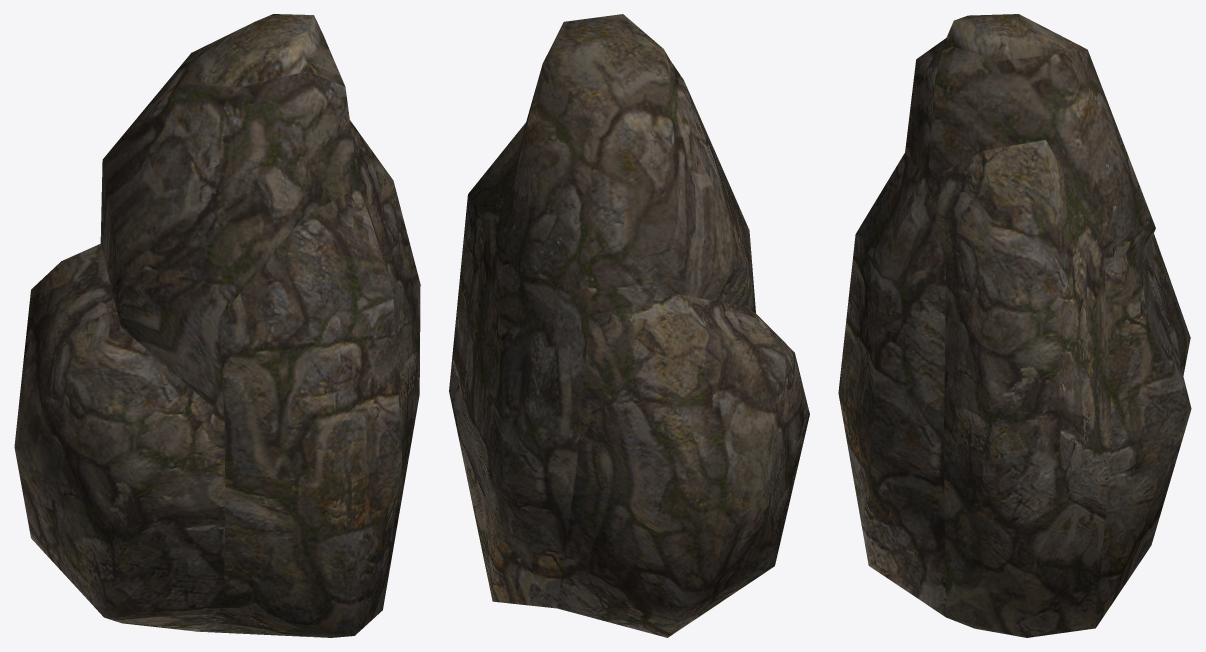
File: Rock06.FBX
The picture shows the model from 3 angles, left to right: view 1: azimuth 30°, elevation 25°; view 2: azimuth 150°, elevation 25°; view 3: azimuth 270°, elevation 25°; orthographic projection. The views are drawn at different scales.
Visible parts, largest first — view 1: Rock06; view 2: Rock06; view 3: Rock06.
Part boxes in pixels (x1,y1,x2,y2): Rock06: (14,14,420,637); Rock06: (449,14,809,637); Rock06: (838,14,1191,637).
Size of the model in its own units: 296 by 484 by 263.
